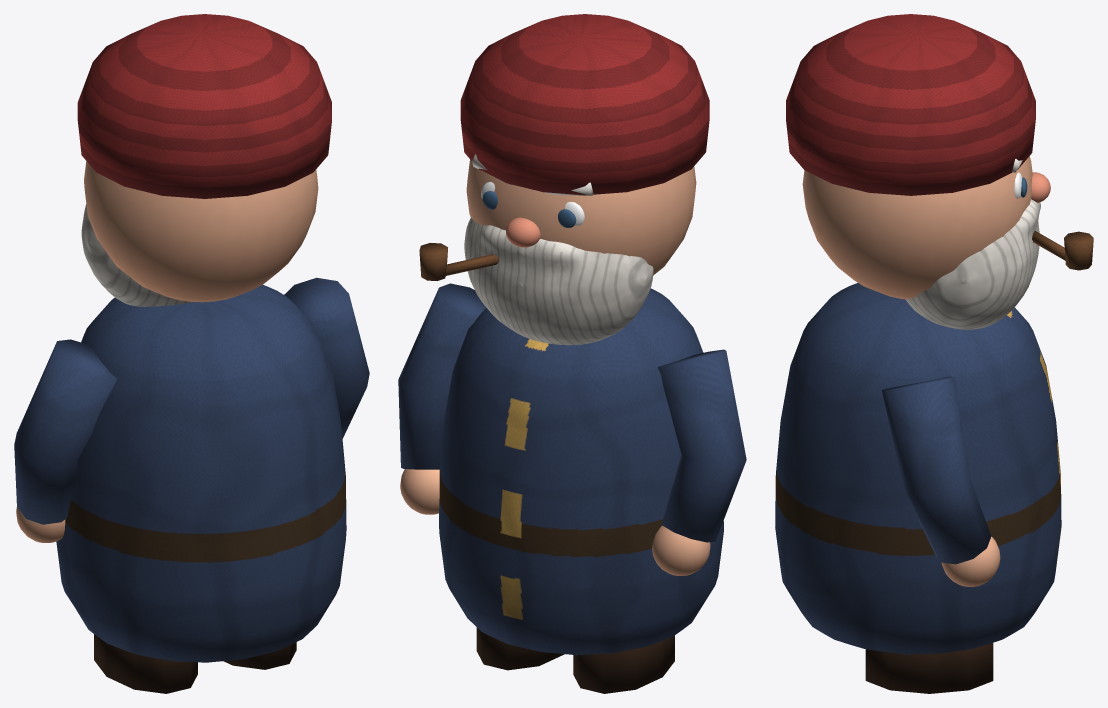
Rendered from stepa.glb.
3 renders of one model, left to right at view 1: azimuth 30°, elevation 25°; view 2: azimuth 150°, elevation 25°; view 3: azimuth 270°, elevation 25°, orthographic. The views are drawn at different scales.
Parts seen in each view (by area): view 1: Body, Head; view 2: Body, Head; view 3: Body, Head.
Boxes of the visible parts, bbox=[...] form: Body: bbox=[14, 277, 369, 693]; Head: bbox=[77, 14, 331, 306]; Body: bbox=[398, 283, 746, 693]; Head: bbox=[419, 14, 709, 345]; Body: bbox=[775, 283, 1061, 693]; Head: bbox=[786, 14, 1093, 329].
Size of the model in its own units: 1.05 by 1.82 by 0.8536.
Materials: 1 (1 with a texture image).
